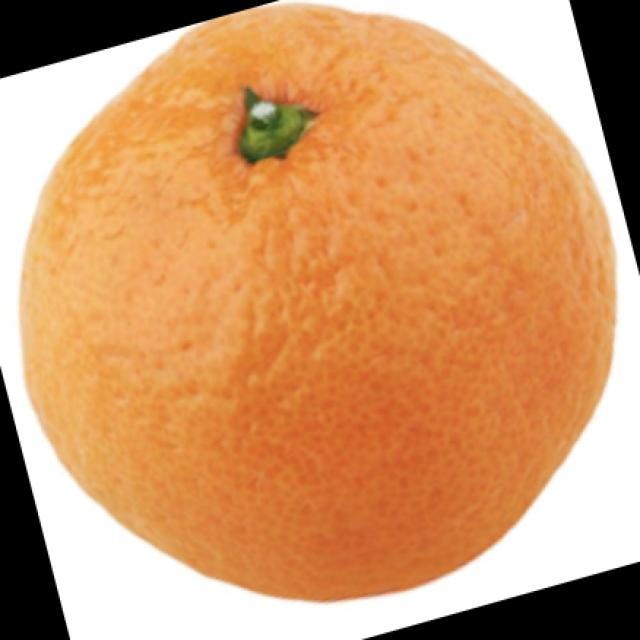matang: (21, 7, 614, 599)
